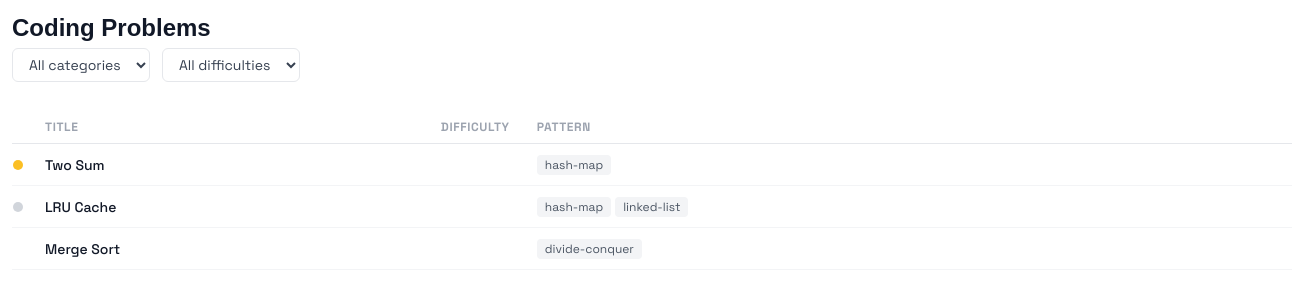
Test: Problems Index Page › filters by difficulty
Select "Hard" in the 2nd dropdown at (231, 65), box [162,48,300,82]
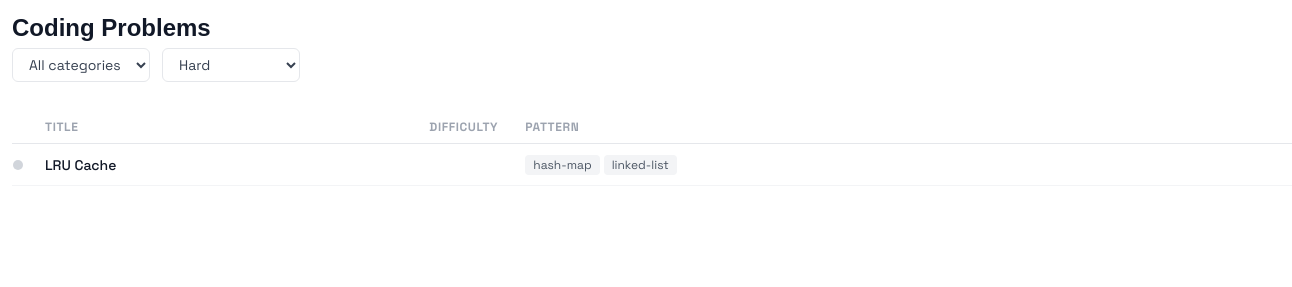
Expected: the text "LRU Cache" is shown, [44,144,428,186]
Result: the text "Two Sum" is gone
Result: the text "Merge Sort" is gone
